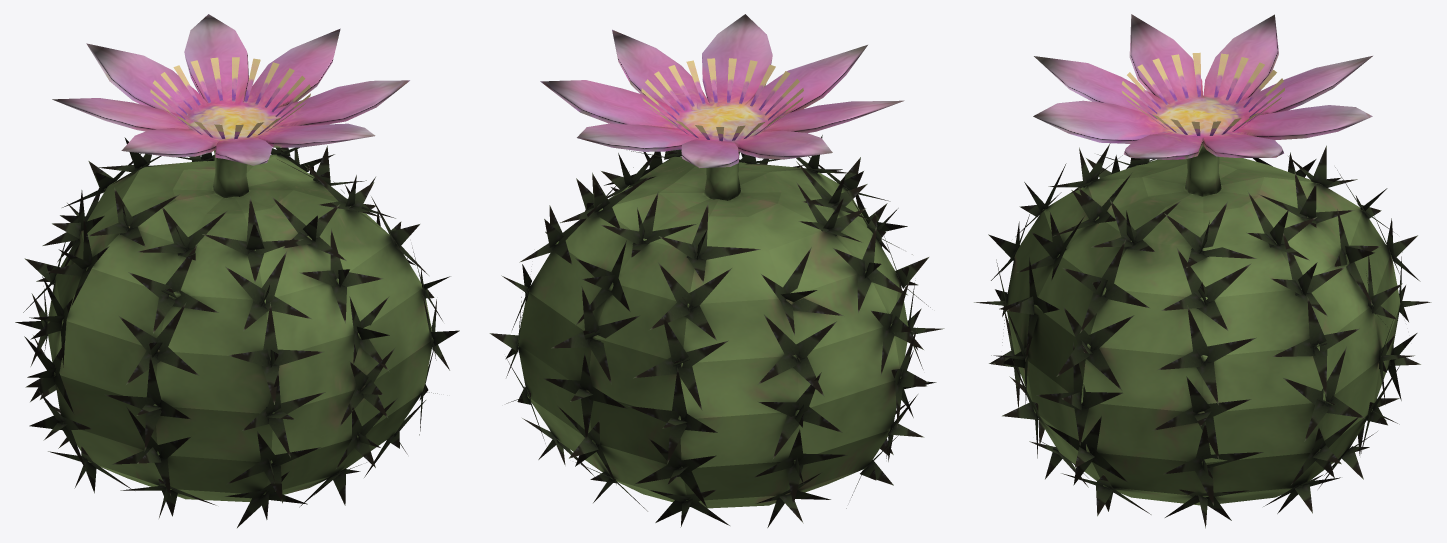
File: cactus.fbx
3 renders of one model, left to right at view 1: azimuth 30°, elevation 25°; view 2: azimuth 150°, elevation 25°; view 3: azimuth 270°, elevation 25°, orthographic.
Visible parts, largest first — view 1: cactus; view 2: cactus; view 3: cactus.
Boxes of the visible parts, bbox=[...] form: cactus: bbox=[15, 14, 459, 527]; cactus: bbox=[489, 14, 944, 527]; cactus: bbox=[974, 14, 1431, 528].
Size of the model in its own units: 28.52 by 26.87 by 28.62.
1 material, 1 textured.
